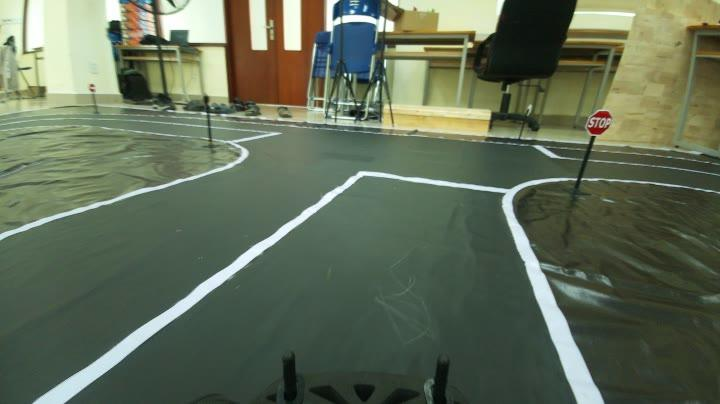stop: (582, 102, 619, 144)
